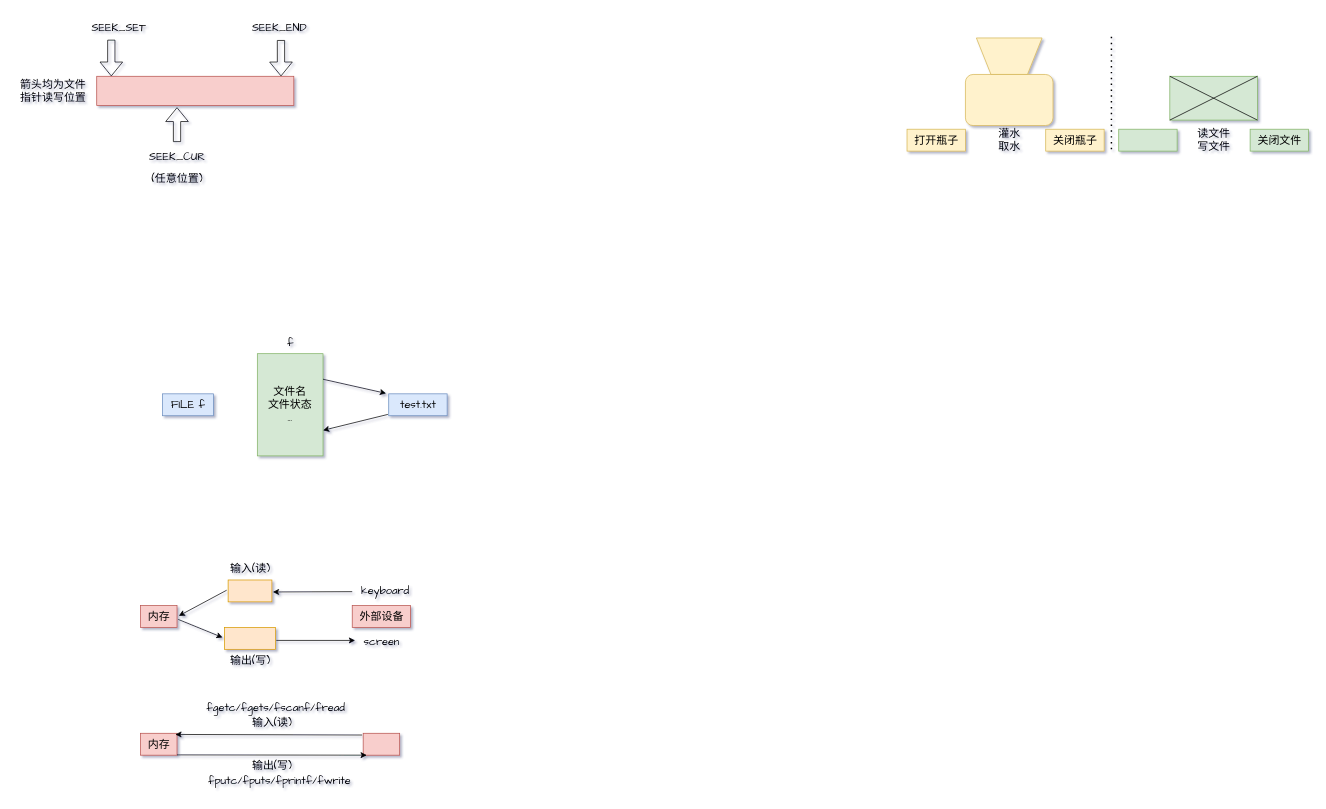
The diagram is 1326 pixels wide and 809 high, and some of its shapes have lost their labels. The shapes that lost their labels are listed below. From the top down, each one's centre as x and y in pixels, then its label:
[195,90]: a b c d e f
[1147,139]: 打开文件
[249,590]: scanf
[250,638]: printf
[381,744]: 文件
